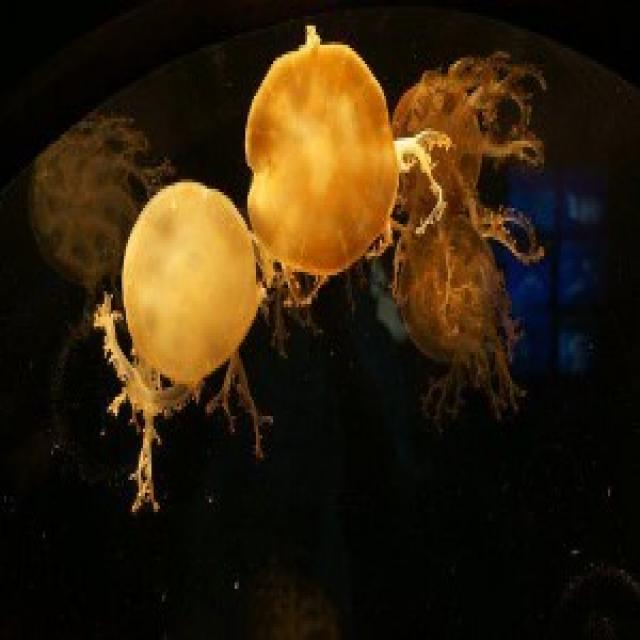Jellyfish: (97, 177, 263, 474), (248, 51, 389, 292)
